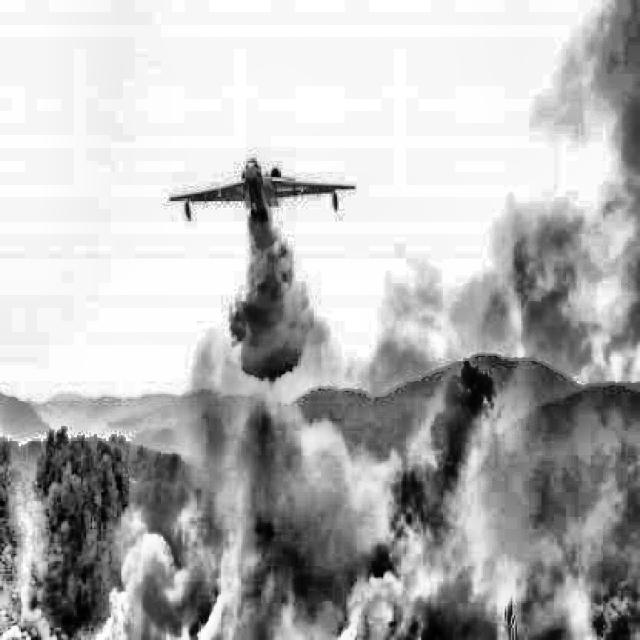Be200: (170, 157, 356, 221)
